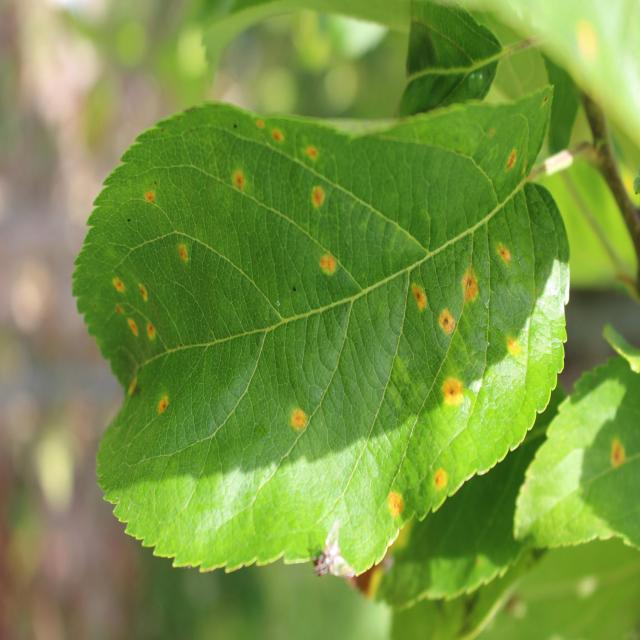Rust: (500, 324, 536, 382), (431, 369, 473, 413), (459, 254, 486, 319), (309, 242, 349, 284), (146, 392, 191, 426), (407, 266, 428, 328), (284, 394, 310, 444), (487, 234, 522, 269), (602, 438, 636, 474), (296, 182, 334, 210), (503, 132, 523, 184), (171, 236, 196, 276), (430, 306, 460, 338), (386, 488, 410, 526), (296, 139, 323, 172), (139, 182, 163, 215), (229, 168, 255, 196), (266, 122, 287, 156), (427, 460, 448, 493), (134, 283, 158, 308), (105, 272, 128, 298), (142, 318, 160, 350), (250, 106, 266, 140), (124, 313, 139, 344)
